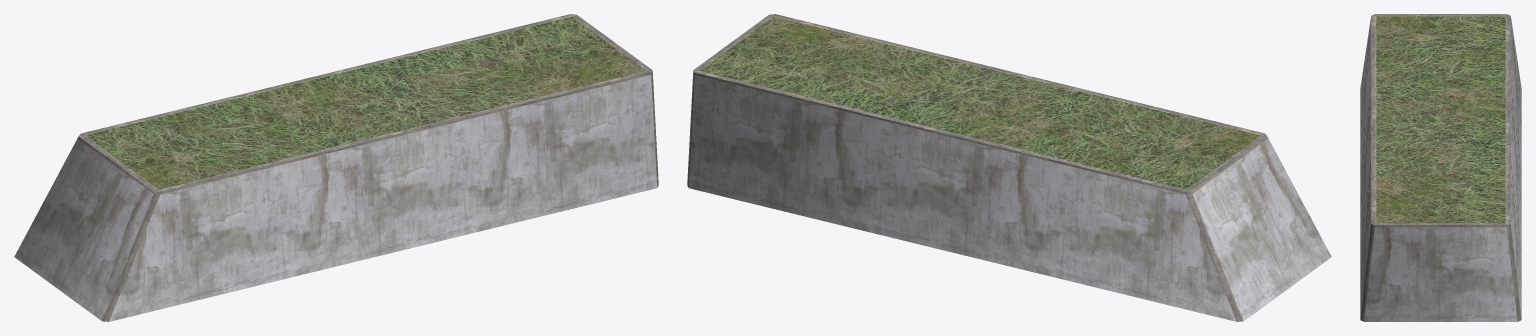
Rendered from JpHouseJ_StoneWall_01c.fbx.
The picture shows the model from 3 angles, left to right: view 1: azimuth 30°, elevation 25°; view 2: azimuth 150°, elevation 25°; view 3: azimuth 270°, elevation 25°; orthographic projection. The views are drawn at different scales.
Visible parts, largest first — view 1: JpHouseJ_StoneWall_01c; view 2: JpHouseJ_StoneWall_01c; view 3: JpHouseJ_StoneWall_01c.
Part boxes in pixels (box(x1,y1,x2,y2)): JpHouseJ_StoneWall_01c: box(14, 14, 658, 321); JpHouseJ_StoneWall_01c: box(687, 14, 1331, 321); JpHouseJ_StoneWall_01c: box(1360, 14, 1521, 321).
Size of the model in its own units: 21 by 4 by 6.05.
